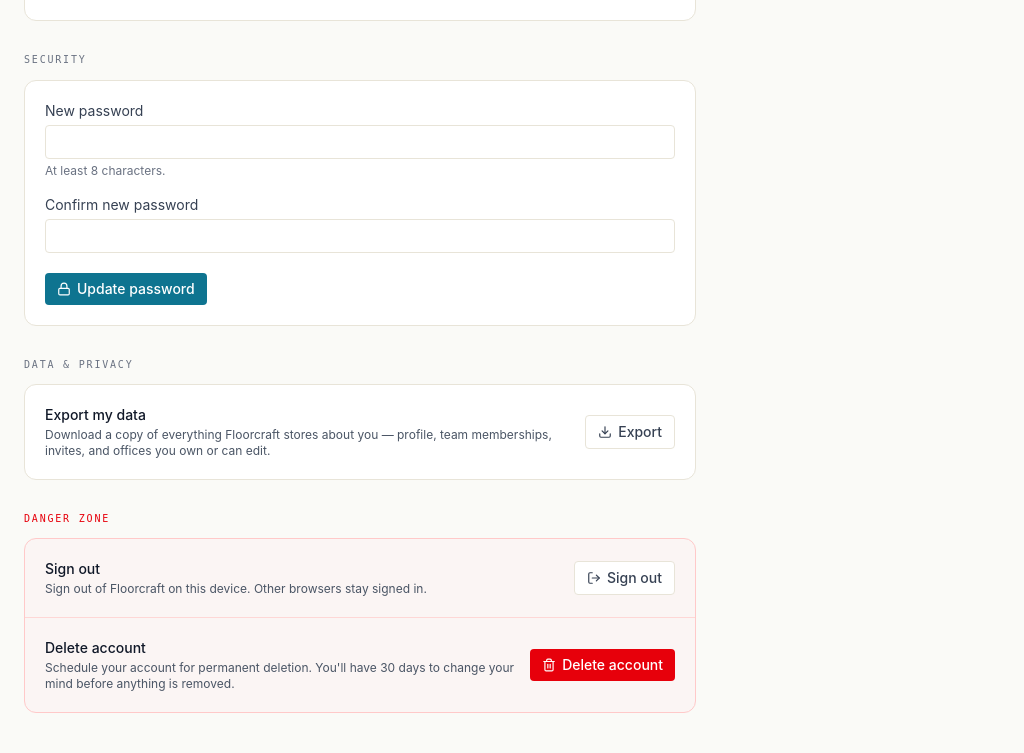
AccountPage (Wave 18C polish) › opens the type-to-confirm dialog when the user clicks Delete account
(page scrolled)
Click the button "Delete account" at (603, 665), box [530,649,675,681]
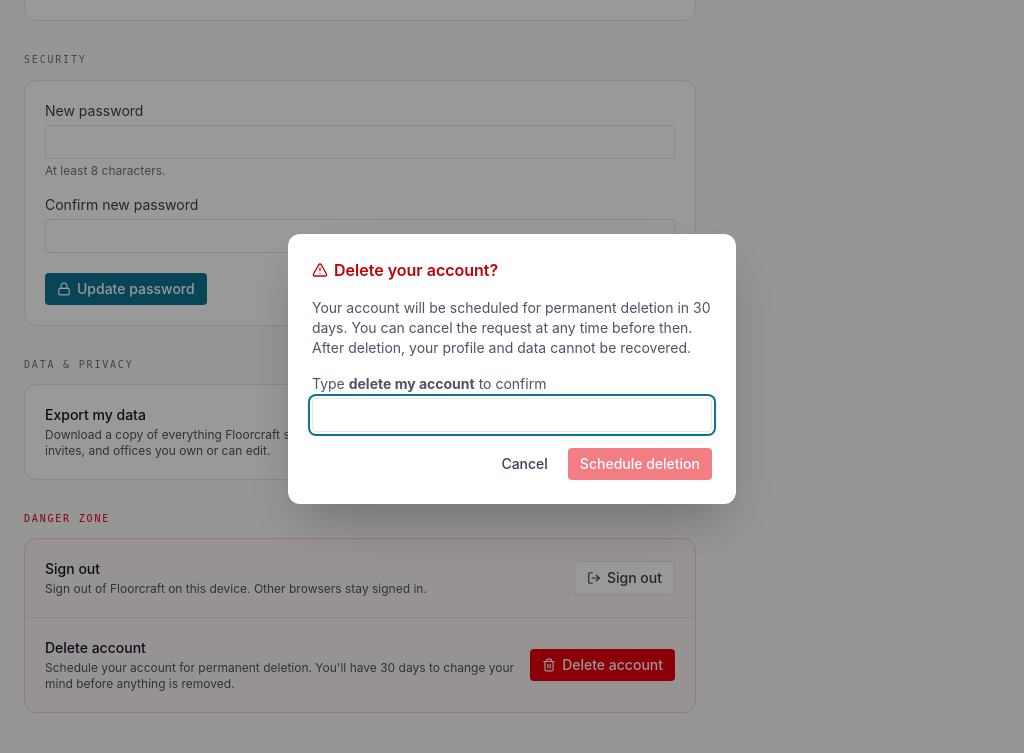
Result: the dialog "Delete your account" is shown at [288,234,736,504]
Result: the button "Schedule deletion" is disabled at [568,448,712,480]
// After typing, it enables.
Type "delete my account" into the field labelled "Type delete my account to confirm" at (512, 415), box [312,398,712,432]
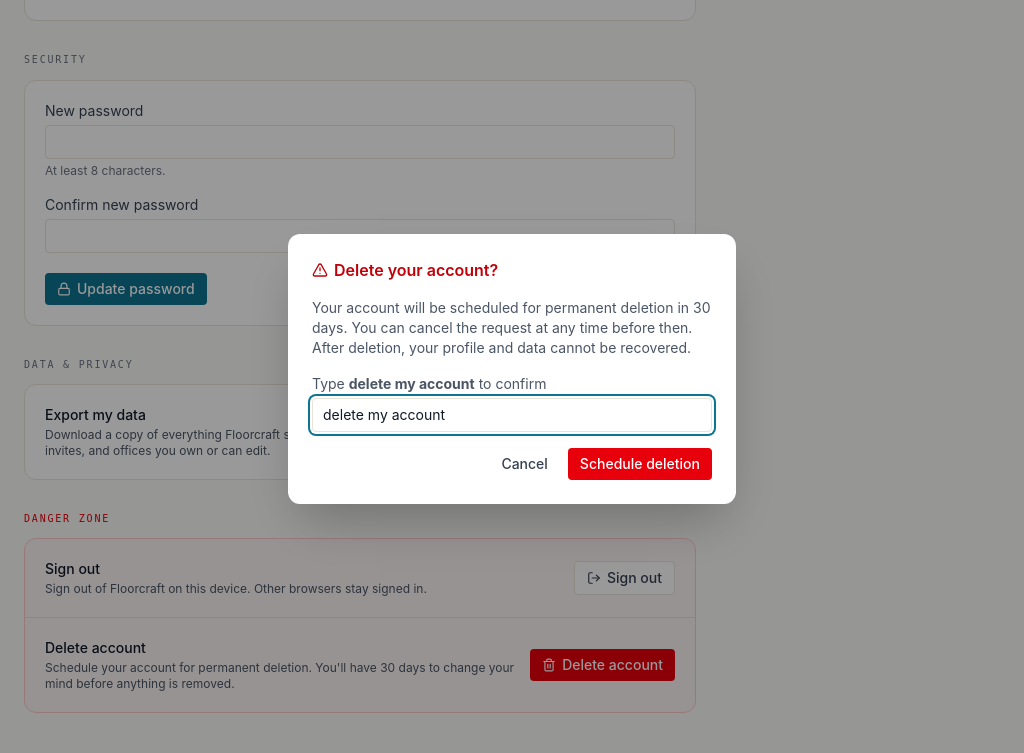
Result: the button "Schedule deletion" is enabled at [568,448,712,480]
